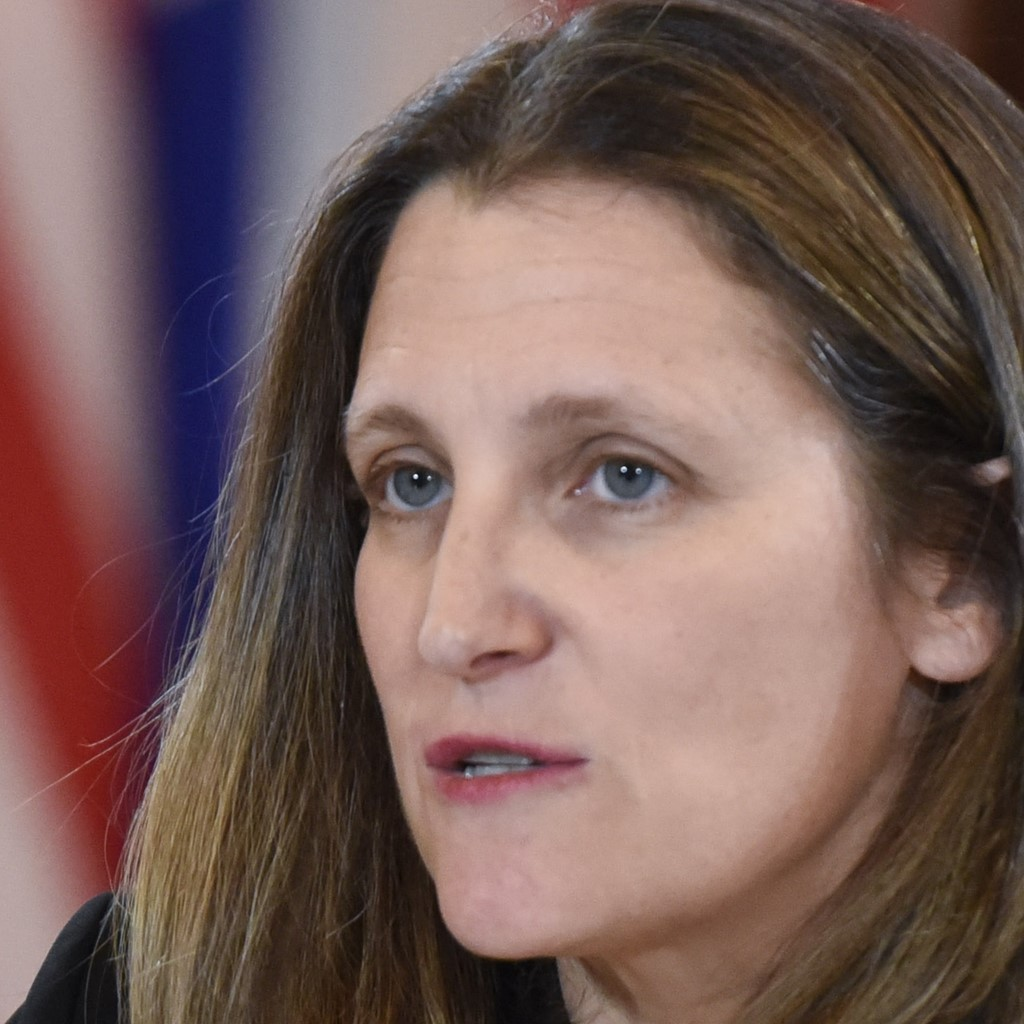sin_mascara: (337, 55, 964, 967)
